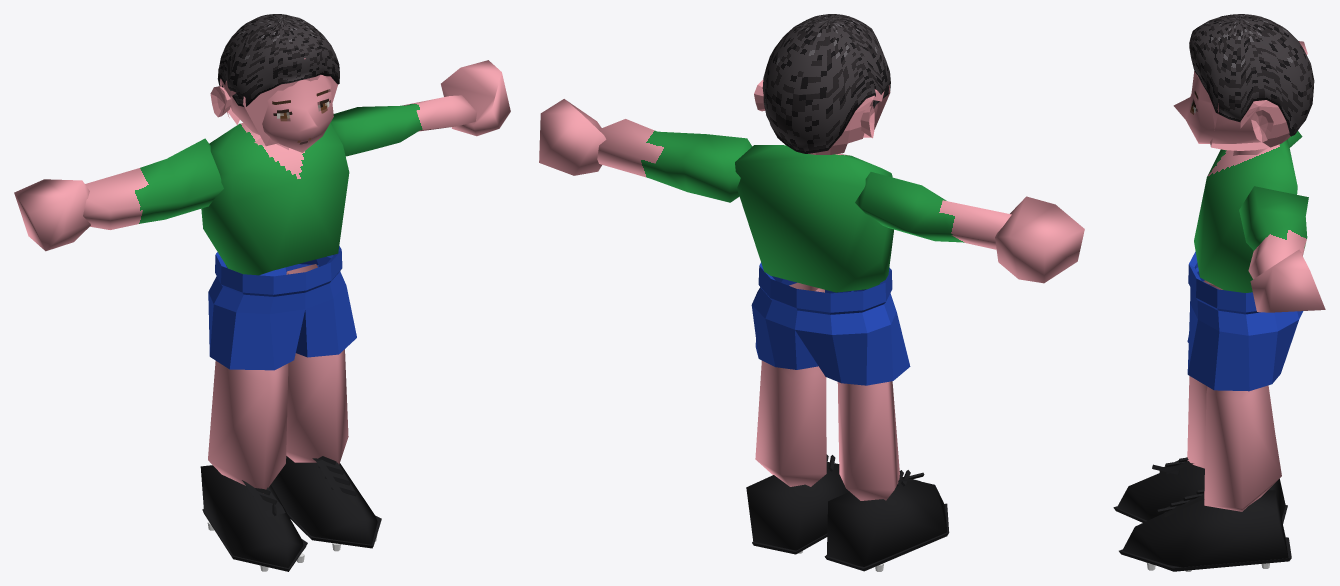
The model's file is 03-raspado_preto.glb.
3 renders of one model, left to right at view 1: azimuth 30°, elevation 25°; view 2: azimuth 150°, elevation 25°; view 3: azimuth 270°, elevation 25°, orthographic. The views are drawn at different scales.
Parts seen in each view (by area): view 1: Camisa_Tronco, Bermuda, Perna.R, Braco.R, Cabelo, Perna.L, Chuteira.R, Chuteira.L, Braco.L, Mao.R, Cabeca, Mao.L (+4 smaller); view 2: Camisa_Tronco, Bermuda, Cabelo, Perna.L, Braco.L, Chuteira.R, Perna.R, Braco.R, Mao.R, Chuteira.L, Mao.L, Cranio (+1 smaller); view 3: Cabelo, Bermuda, Chuteira.L, Camisa_Tronco, Perna.L, Braco.L, Mao.L, Chuteira.R, Cabeca, Perna.R, Cranio, Chuteira_Sola.L (+3 smaller).
Part boxes in pixels (x1,y1,x2,y2): Camisa_Tronco: (201,123,349,275); Bermuda: (208,246,356,370); Perna.R: (208,361,288,493); Braco.R: (83,138,223,229); Cabelo: (217,14,339,106); Perna.L: (286,264,348,464); Chuteira.R: (200,465,305,567); Chuteira.L: (271,456,377,544); Braco.L: (330,95,476,156); Mao.R: (14,179,90,251); Cabeca: (223,75,333,152); Mao.L: (441,60,510,136); Camisa_Tronco: (735,145,893,292); Bermuda: (751,262,910,385); Cabelo: (762,14,890,153); Perna.L: (755,282,826,486); Braco.L: (597,119,752,202); Chuteira.R: (827,477,946,566); Perna.R: (837,381,899,500); Braco.R: (855,172,1011,249); Mao.R: (995,196,1084,283); Chuteira.L: (746,462,849,550); Mao.L: (539,99,606,175); Cranio: (808,85,890,154); Cabelo: (1189,14,1314,136); Bermuda: (1187,251,1303,391); Chuteira.L: (1122,490,1288,571); Camisa_Tronco: (1194,139,1297,292); Perna.L: (1204,385,1281,511); Braco.L: (1239,186,1308,279); Mao.L: (1250,249,1325,312); Chuteira.R: (1117,461,1285,520); Cabeca: (1173,71,1260,143); Perna.R: (1187,280,1274,468); Cranio: (1197,75,1290,150); Chuteira_Sola.L: (1119,537,1291,571).
Size of the model in its own units: 0.4523 by 0.4415 by 0.1617.
3 materials, 3 textured.
